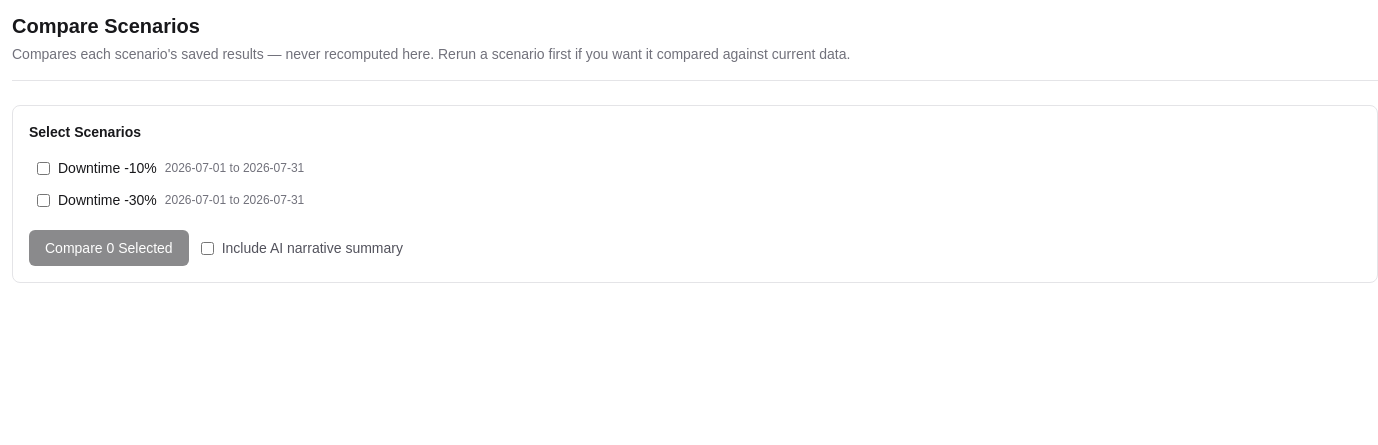
it: CompareScenariosPage › does not render bar charts when no scenario has results yet
Expected: the text "Downtime -10%" is shown, [58,158,157,178]
Click the checkbox labelled "Downtime -10% 2026-07-01 to 2026-07-31": [44, 168] box [37,162,50,174]
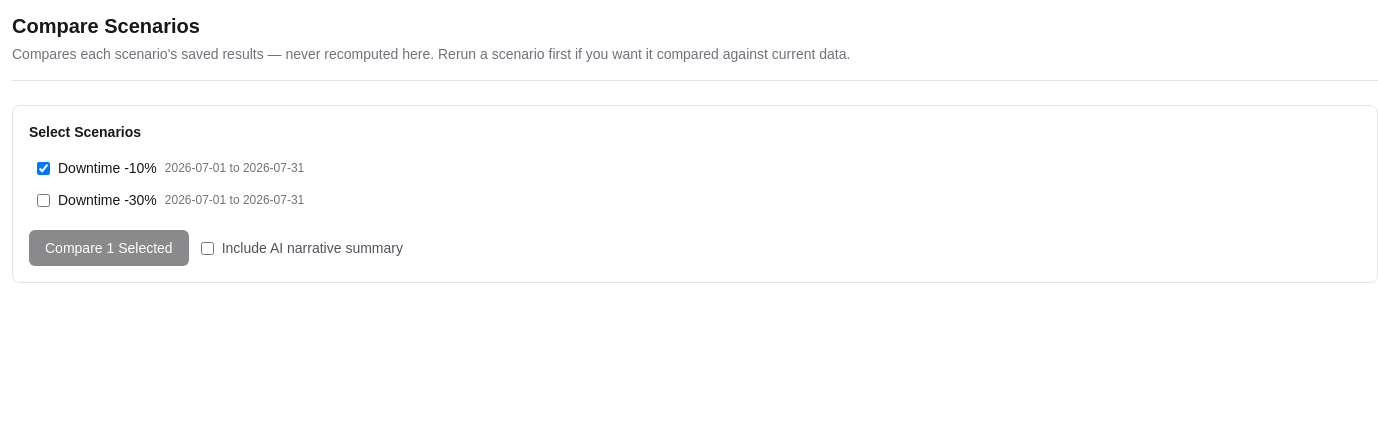
Click the checkbox labelled "Downtime -30% 2026-07-01 to 2026-07-31": [44, 200] box [37,194,50,206]
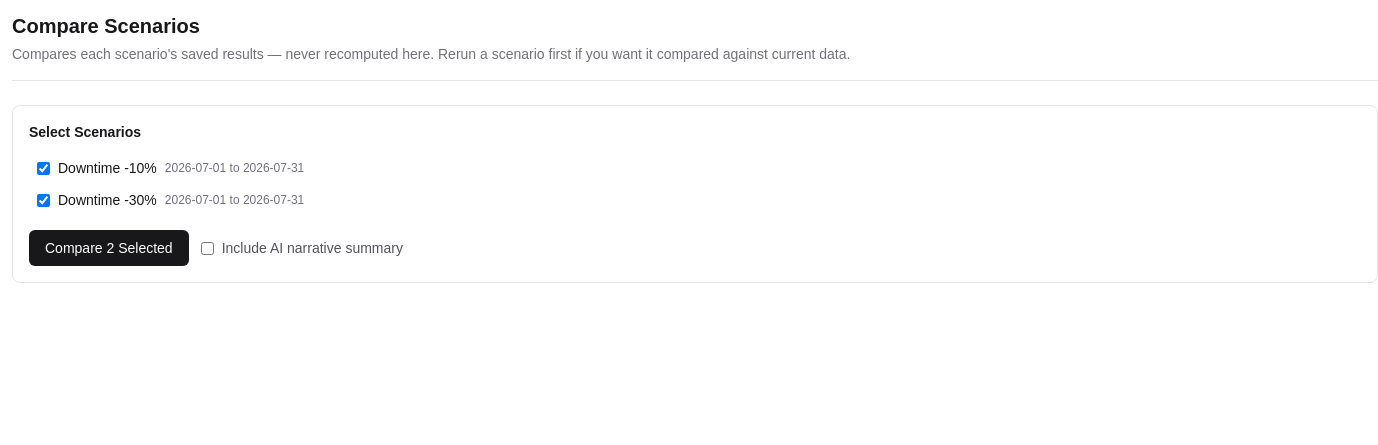
Click the button "Compare 2 Selected": [109, 248] box [29,230,189,266]
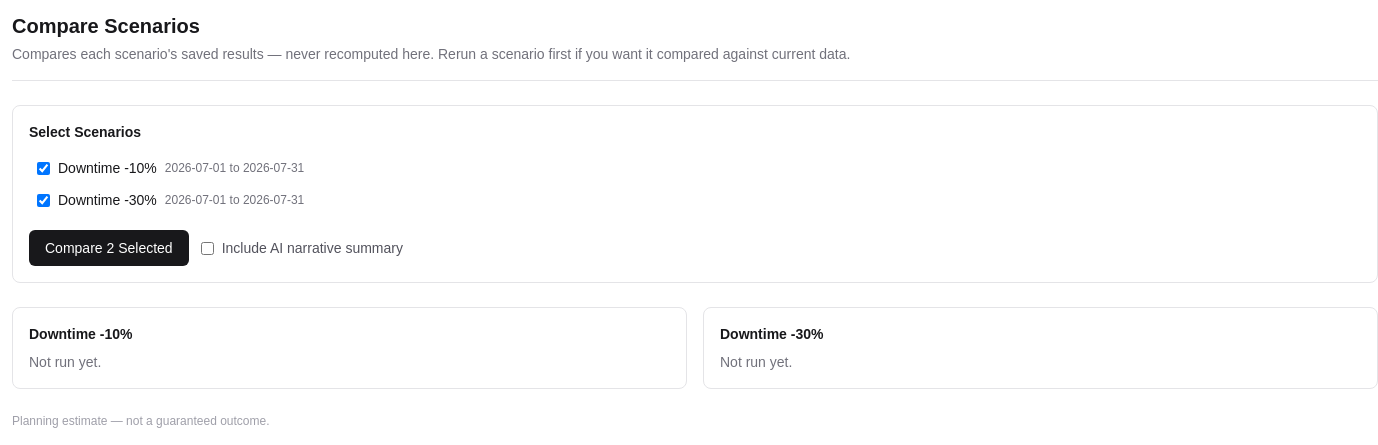
Expected: the text "Not run yet." is shown 2 times, [29,354,101,370]; [720,354,792,370]
